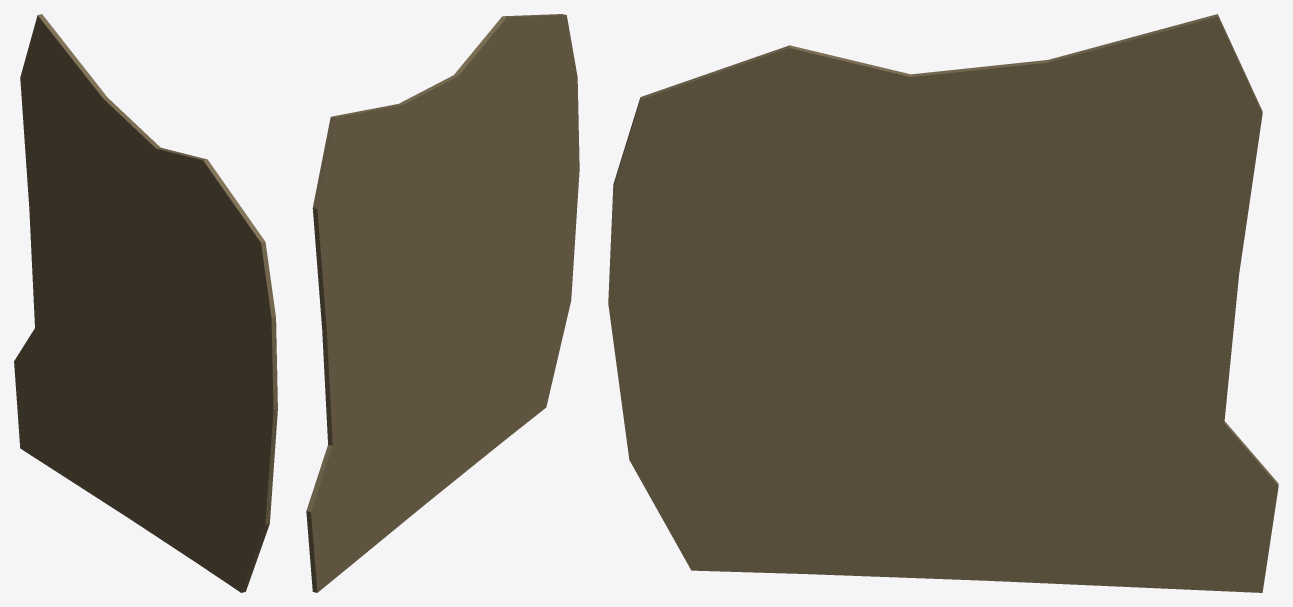
The model's file is MickeyMouse.fbx.
3 renders of one model, left to right at view 1: azimuth 30°, elevation 25°; view 2: azimuth 150°, elevation 25°; view 3: azimuth 270°, elevation 25°, orthographic. The views are drawn at different scales.
Visible parts, largest first — view 1: Plane; view 2: Plane; view 3: Plane.
Boxes of the visible parts, x1,y1,x2,y2 form: Plane: [14, 14, 277, 592]; Plane: [306, 14, 579, 592]; Plane: [608, 14, 1278, 592].
Bounding box in the file's own units: 0.9921 × 94.25 × 99.37.
